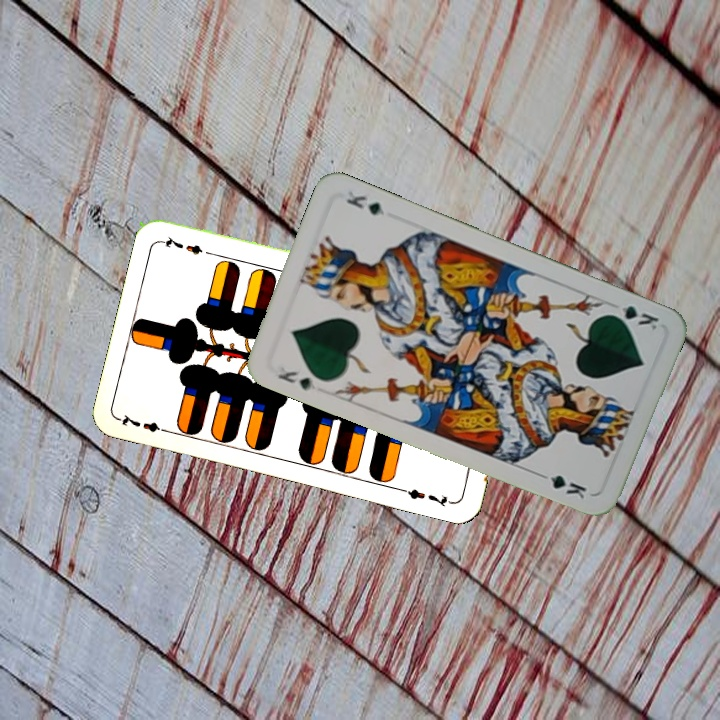E7: (116, 410, 174, 437)
GK: (604, 300, 662, 333), (274, 367, 320, 393)
